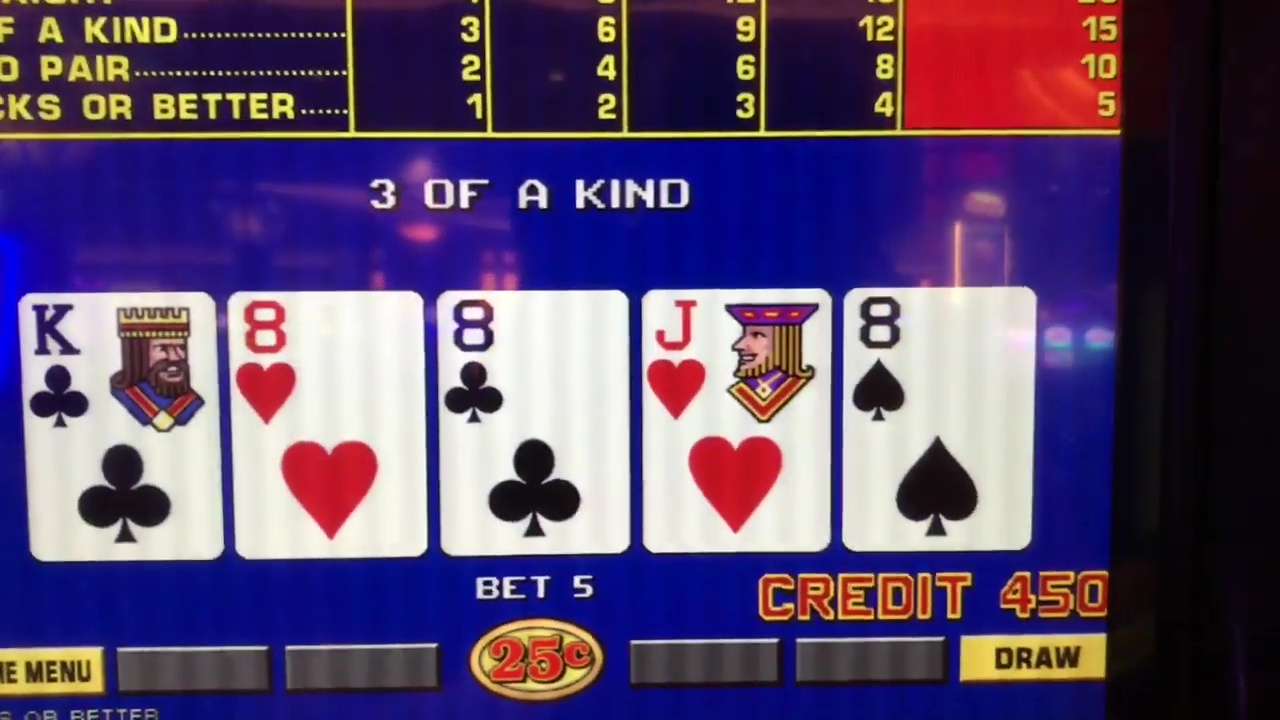C8: (444, 294, 622, 434)
CK: (27, 293, 217, 439)
H8: (235, 293, 422, 437)
HJ: (652, 294, 822, 432)
S8: (853, 290, 1024, 430)
